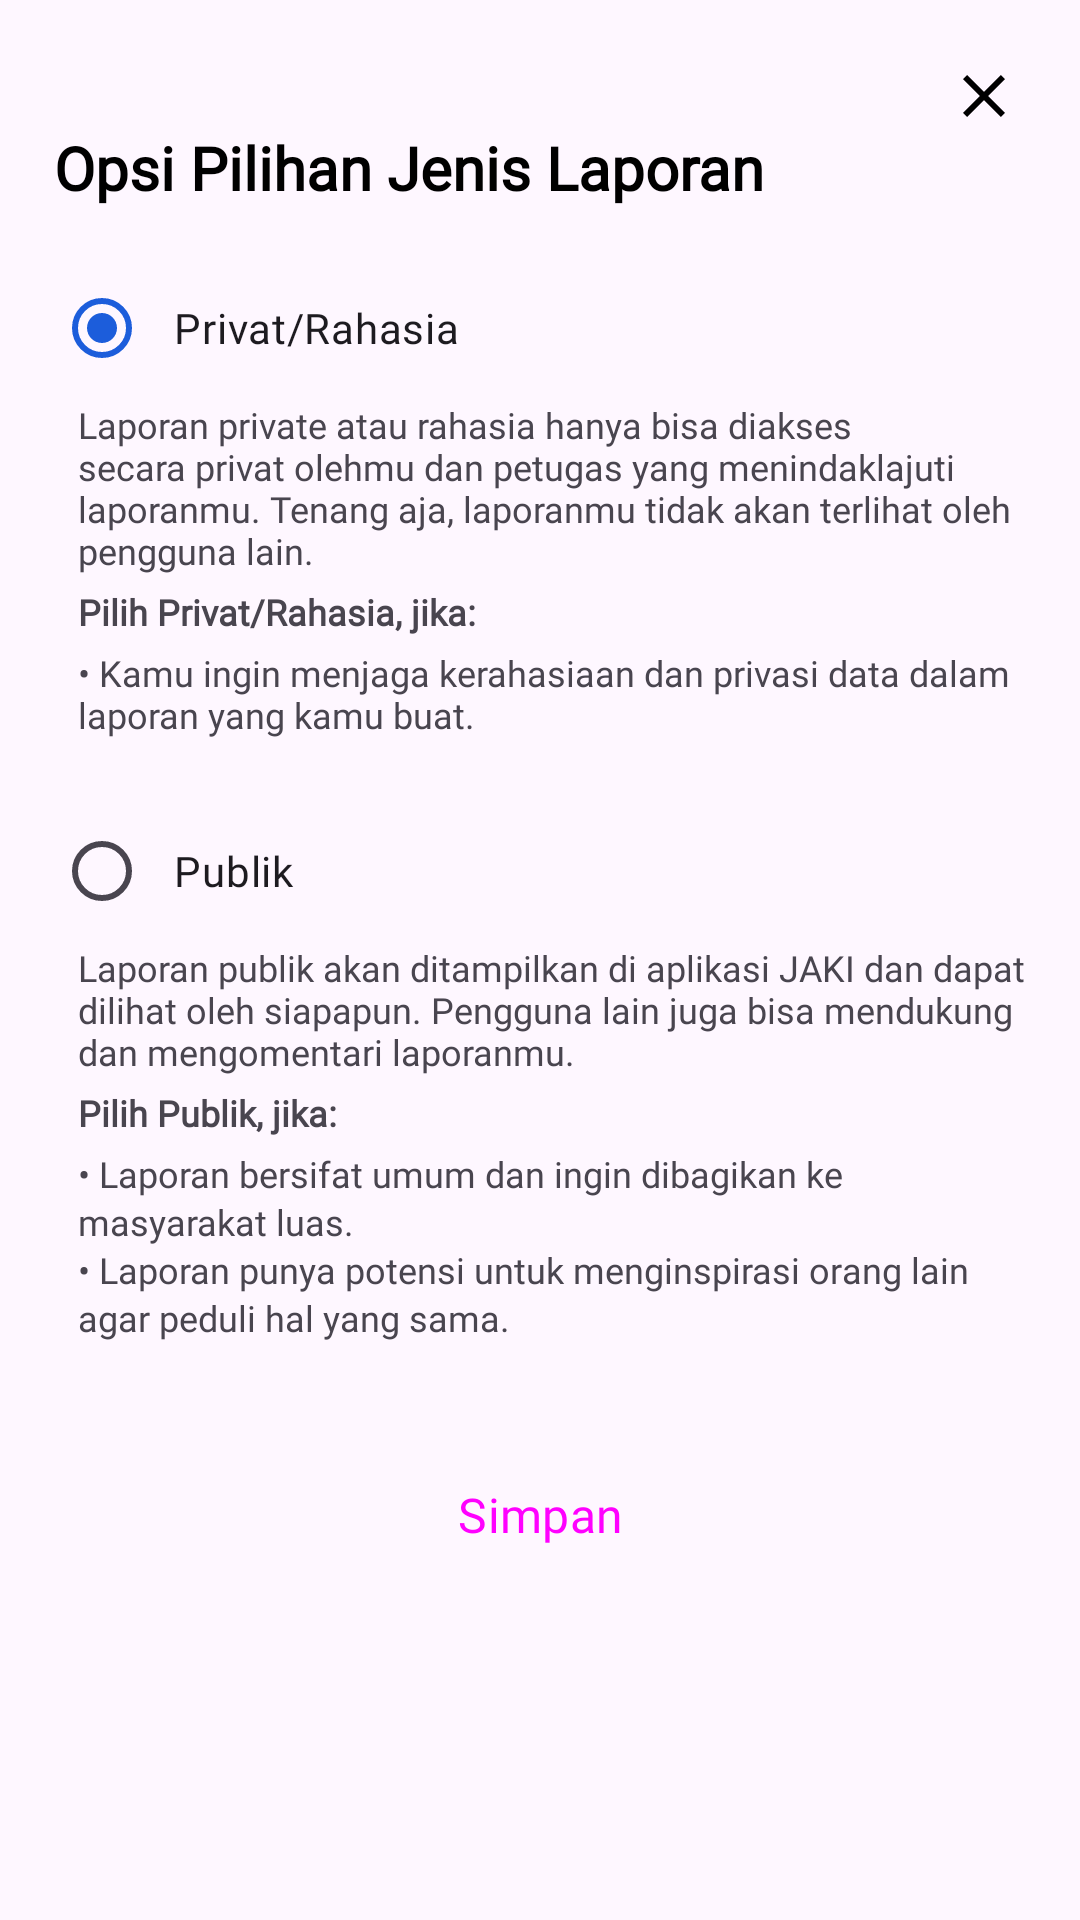

Screen size 1080 × 1920. Icon name, then its box in pixels as (x1, y1, x2, y2):
Tutup: (963, 75, 1005, 117)
